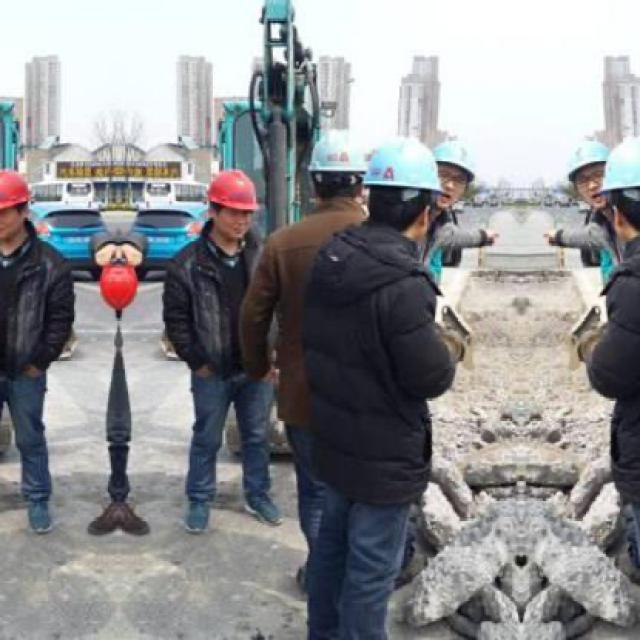helmet: (362, 134, 441, 231), (307, 117, 372, 218), (202, 160, 262, 243), (430, 128, 481, 208), (560, 128, 611, 208), (600, 132, 640, 231), (2, 160, 36, 245)
